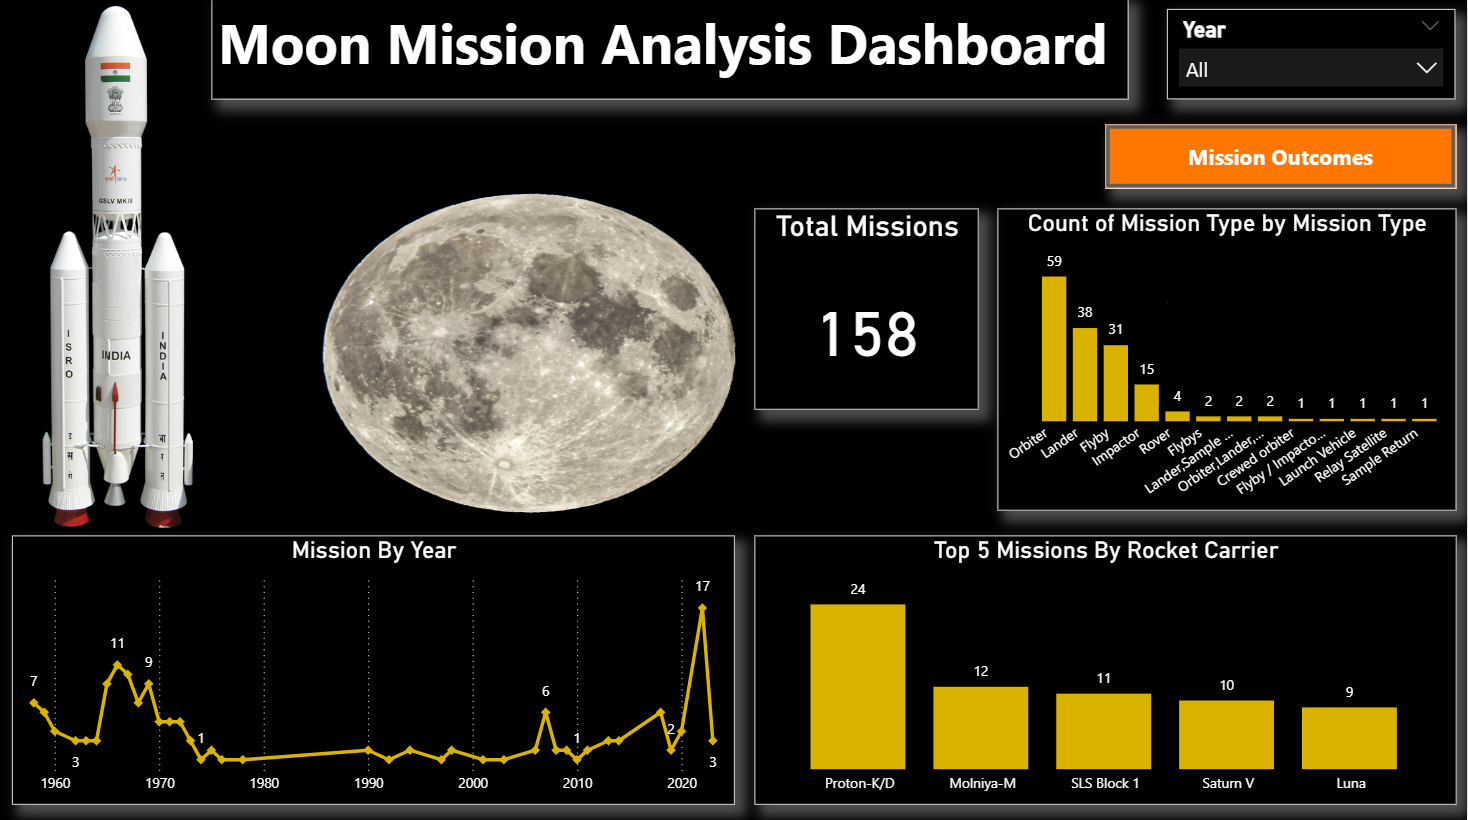

What the dashboard file says about the page in this screenshot:
{"tool":"powerbi","page":{"name":"Moon Mission By Rocket Carrier","canvas":[1280,720],"ordinal":1},"visuals":[{"type":"textbox","box":[184.7,0,799.5,89.3],"z":0},{"type":"slicer","fields":{"Values":["Calendar.Year"]},"box":[1017.5,10.6,251.4,78.7],"z":1000},{"type":"card","title":"Total Missions","fields":{"Values":["CountNonNull(Moonlanding.Mission)"]},"box":[657.2,184.7,195.3,175.6],"z":2000},{"type":"lineChart","title":"Mission By Year","fields":{"Y":["CountNonNull(Moonlanding.Mission Type)"],"Category":["Calendar.Date.Variation.Date Hierarchy.Year"]},"box":[10.6,469.4,629.9,234.7],"z":3000},{"type":"image","box":[0,0,204.4,469.4],"z":6000},{"type":"columnChart","title":"Top 5 Missions By Rocket Carrier","fields":{"Category":["Moonlanding.Carrier Rocket"],"Y":["CountNonNull(Moonlanding.Mission)"]},"box":[657.2,469.4,611.7,234.7],"z":6001},{"type":"columnChart","fields":{"Category":["Moonlanding.Mission Type"],"Y":["CountNonNull(Moonlanding.Mission Type)"]},"box":[869.2,184.7,399.8,263.5],"z":6002},{"type":"actionButton","title":"Moon Mission By Rocket Carrier","box":[963,110.5,305.9,56],"z":6003}]}

Visuals, with their boxes in screenshot pixels (x1, y1, x2, y2), scaled from the page's 1280x720 canvas onto the 1468x820 screenshot:
textbox: region(212, 0, 1129, 102)
slicer - Calendar.Year: region(1167, 12, 1455, 102)
"Total Missions" card: region(754, 210, 978, 410)
"Mission By Year" lineChart: region(12, 535, 735, 802)
image: region(0, 0, 234, 535)
"Top 5 Missions By Rocket Carrier" columnChart: region(754, 535, 1455, 802)
columnChart - Moonlanding.Mission Type x CountNonNull(Moonlanding.Mission Type): region(997, 210, 1455, 510)
"Moon Mission By Rocket Carrier" actionButton: region(1104, 126, 1455, 190)
